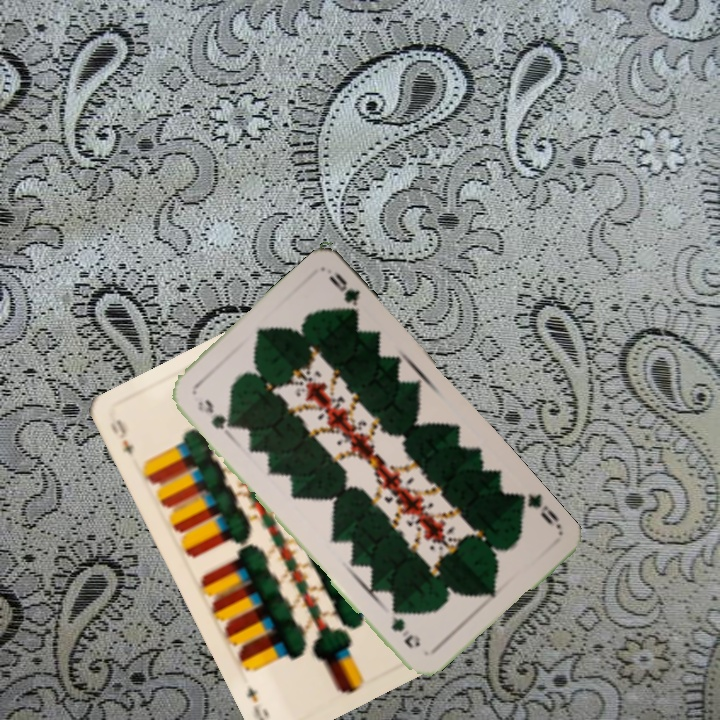E9: (112, 415, 137, 457)
G9: (514, 489, 565, 532), (193, 394, 236, 432)
